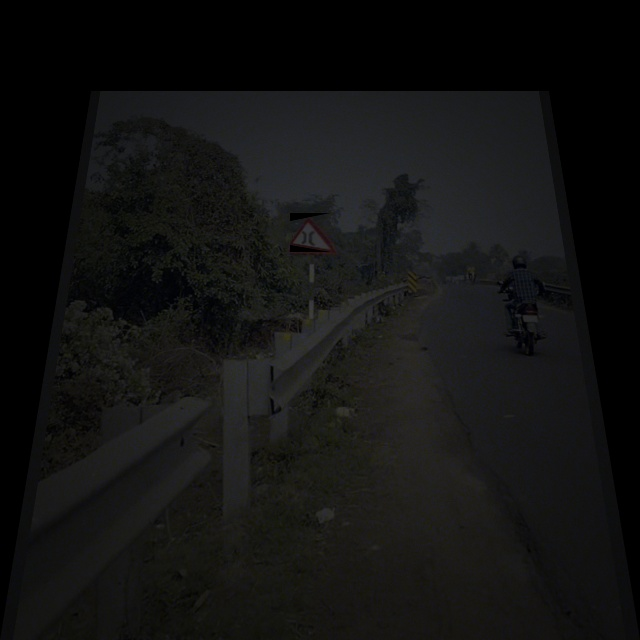Narrow_Bridge: (290, 213, 331, 252)
